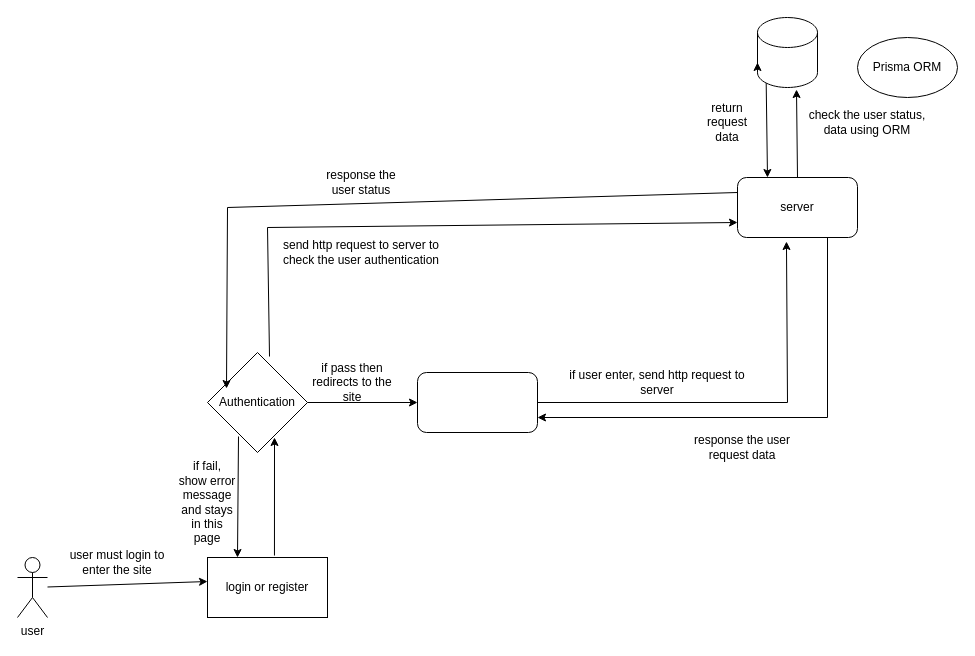
This 975x656 diagram has some shape labels left out. Here are the shapes that lost their labels. From the top down, the centre of each, then its label:
At (x=787, y=52): "db".
At (x=477, y=402): "main site".
